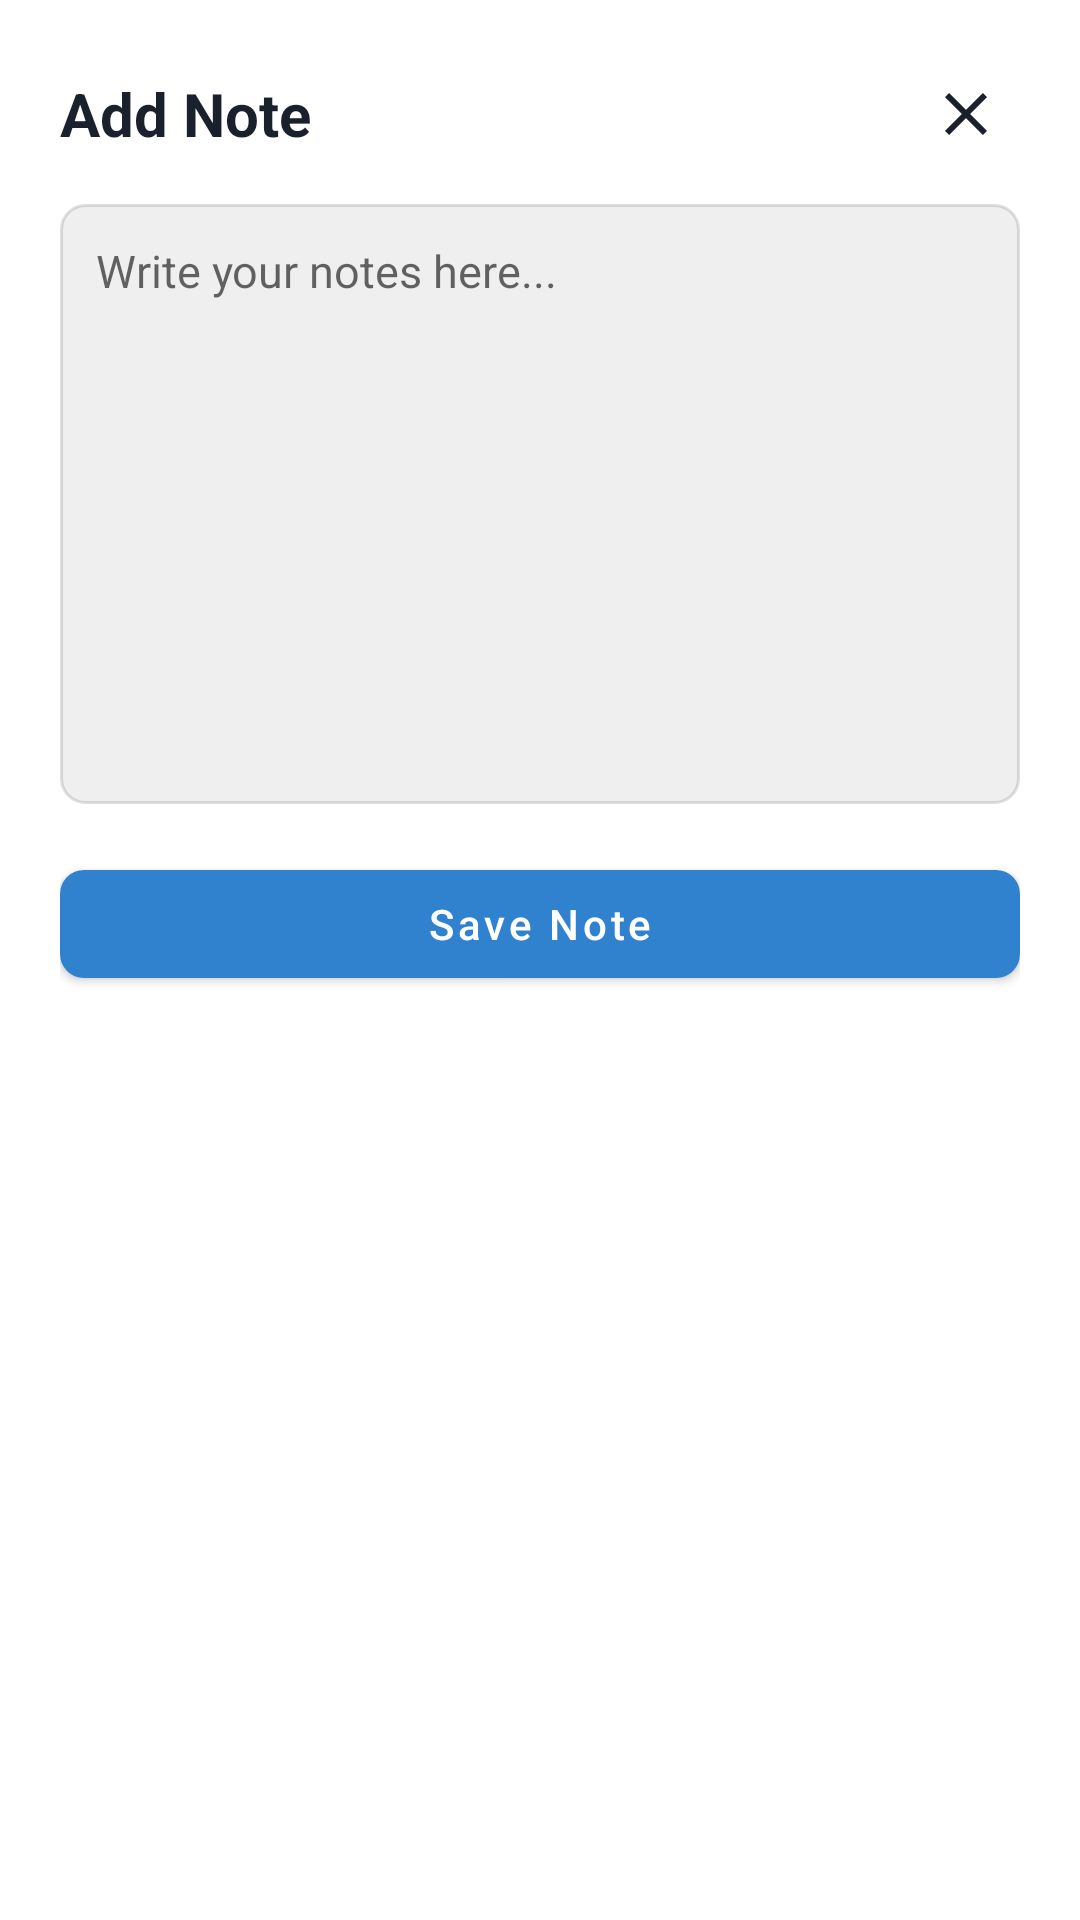

Point at icon controls on the screen. Image size 1080 × 1920, points as point (x, y).
Close: point (966, 114)
